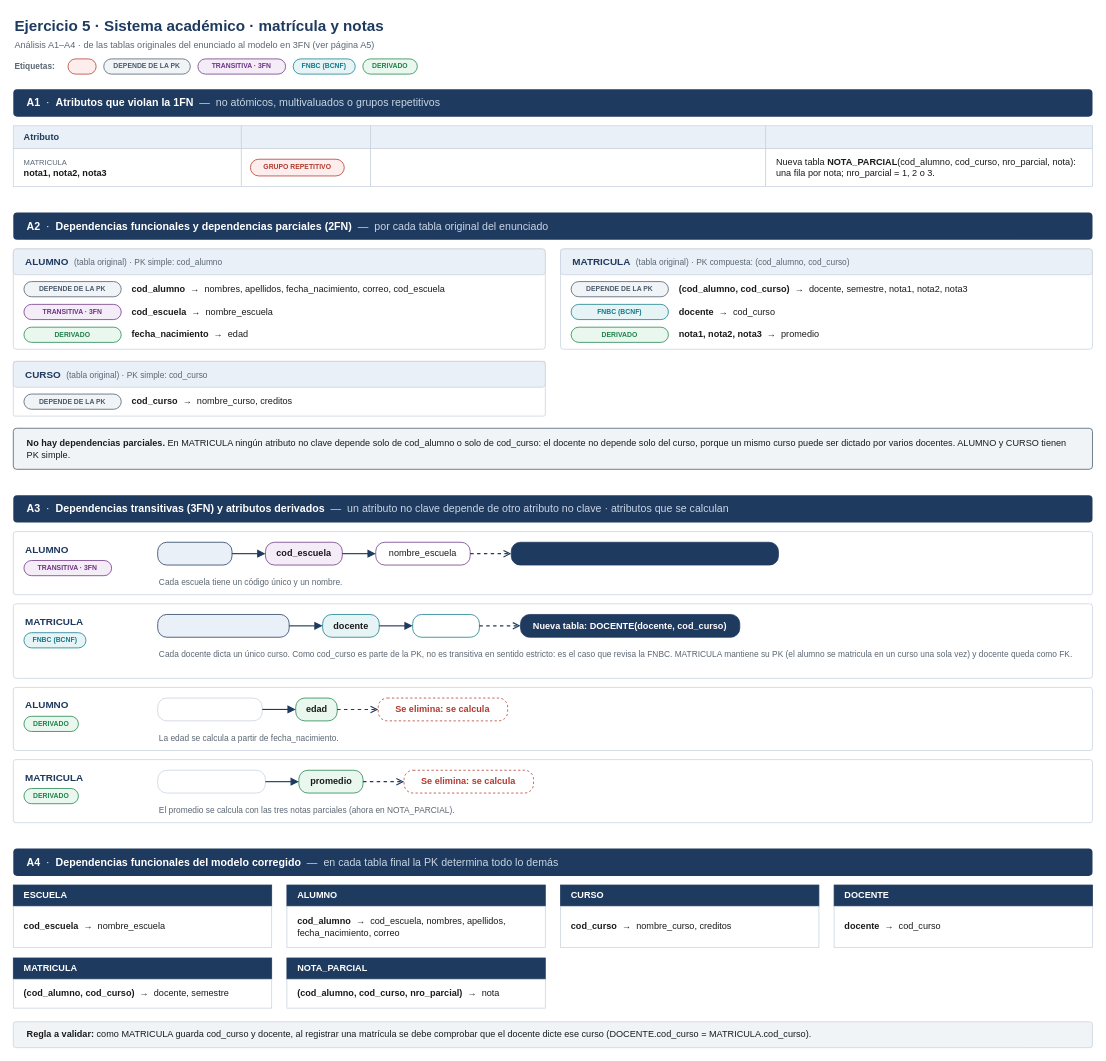
Some shapes in this 1106 by 1061 pixel diagram are drawn without their labels. Each missing label, with the centre of its shape:
(cod_alumno, cod_curso): point 223,625
1FN: point 81,66
cod_alumno: point 194,553
cod_curso: point 445,625
El mismo dato (nota parcial) se repite en tres columnas.: point 568,167
fecha_nacimiento: point 209,709
nota1, nota2, nota3: point 211,781
Nueva tabla: ESCUELA(cod_escuela, nombre_escuela): point 644,553
Por qué viola la 1FN: point 568,137
Problema: point 305,137
Solución: point 928,137
